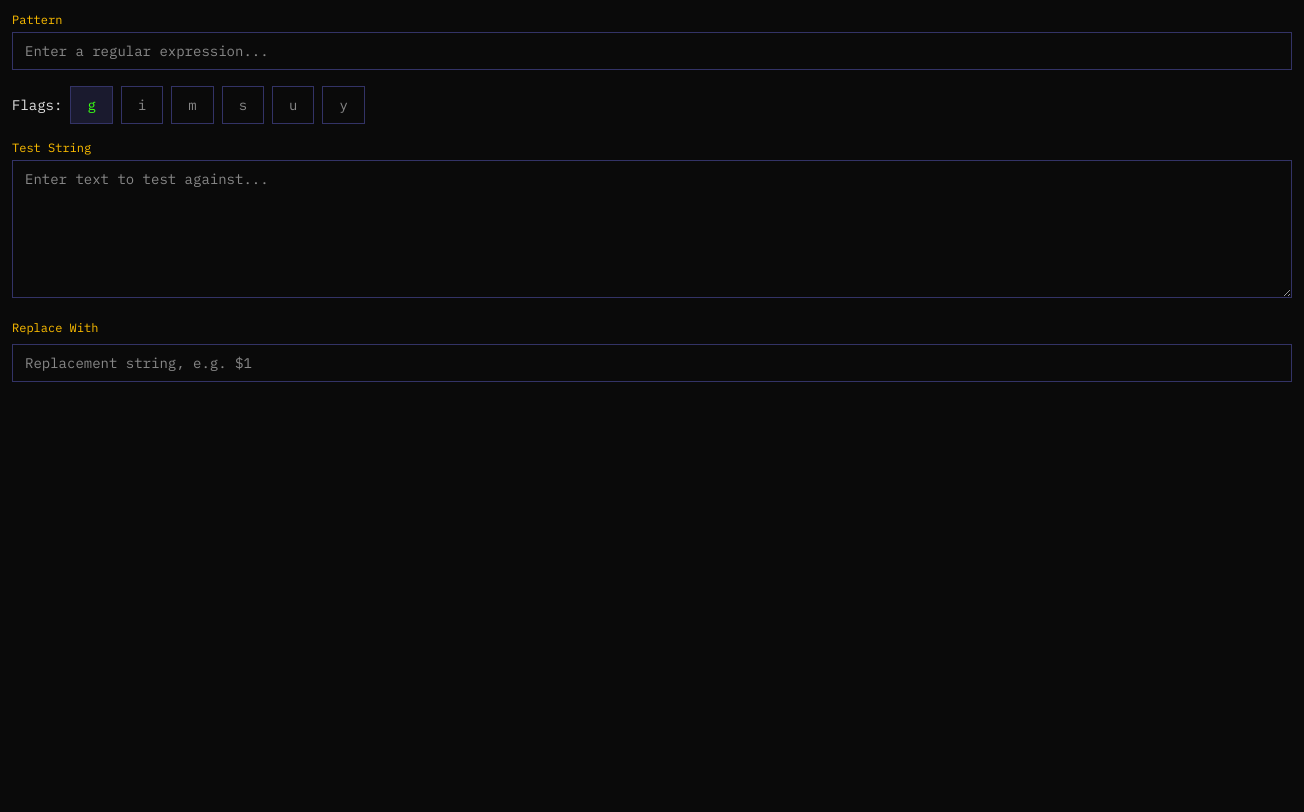
Scenario: RegexTester › copies the replace result to the clipboard
This screenshot has width=1304, height=812.
Type "o" into the field labelled "Pattern". click: (652, 51)
box: left=12, top=32, right=1292, bottom=70
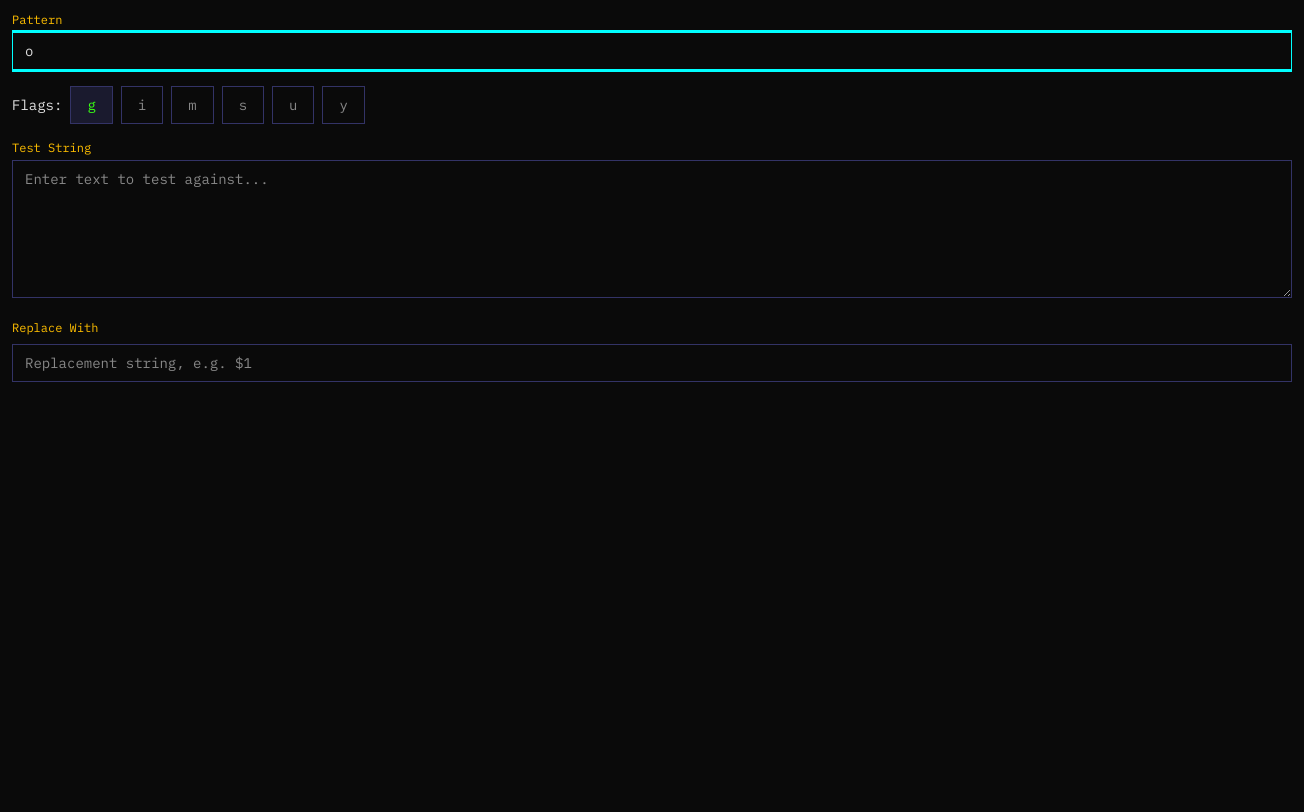
Type "foo" into the text box labelled "Test String". click: (652, 229)
box: left=12, top=160, right=1292, bottom=298
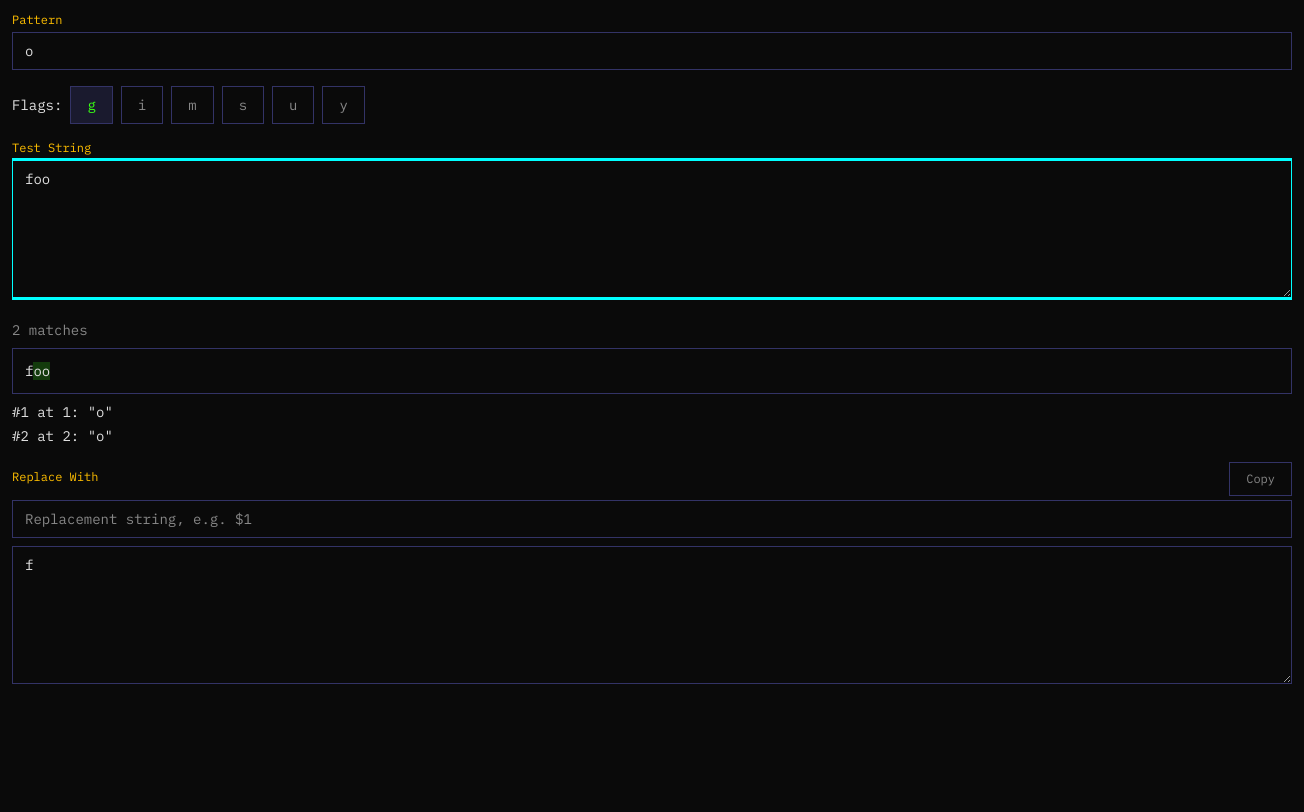
Type "0" into the field labelled "Replace With". click: (652, 519)
box: left=12, top=500, right=1292, bottom=538
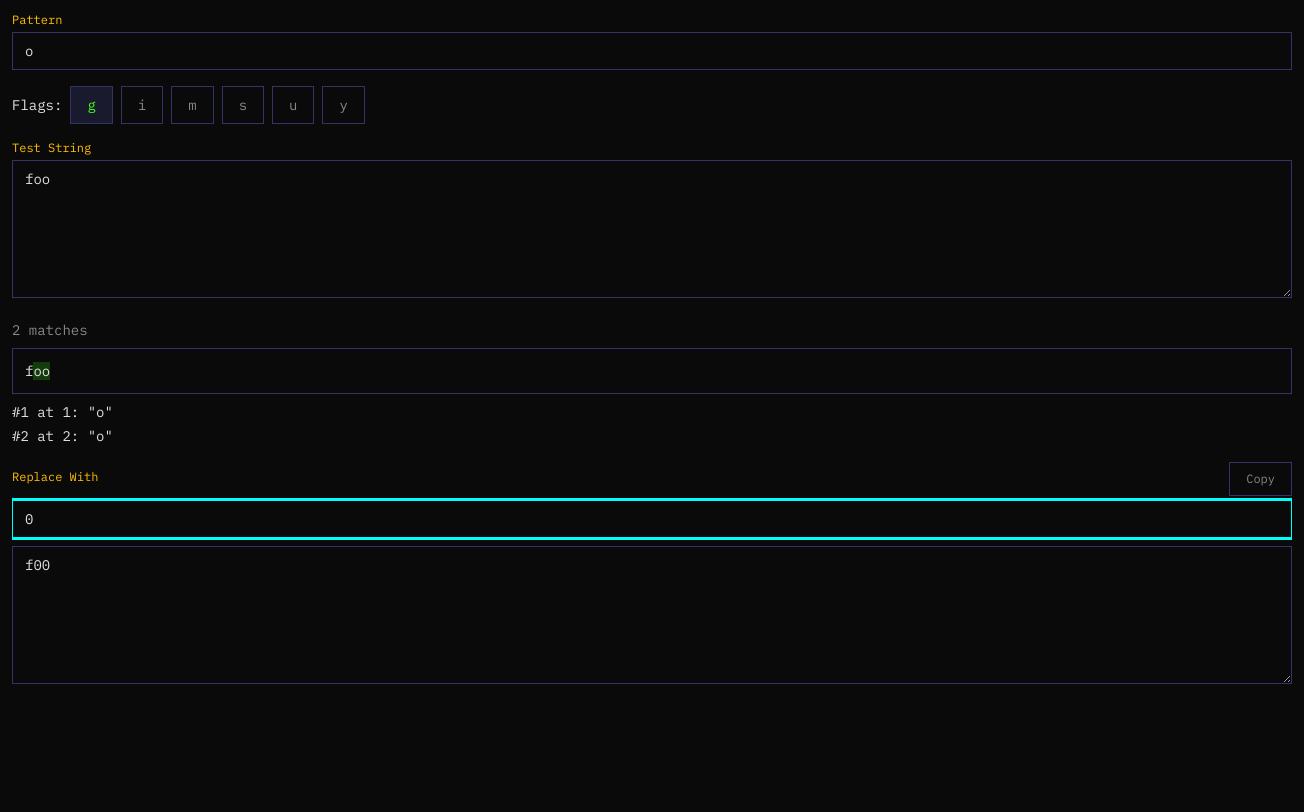
Click the button "Copy". click: click(1261, 479)
box: left=1229, top=462, right=1292, bottom=496
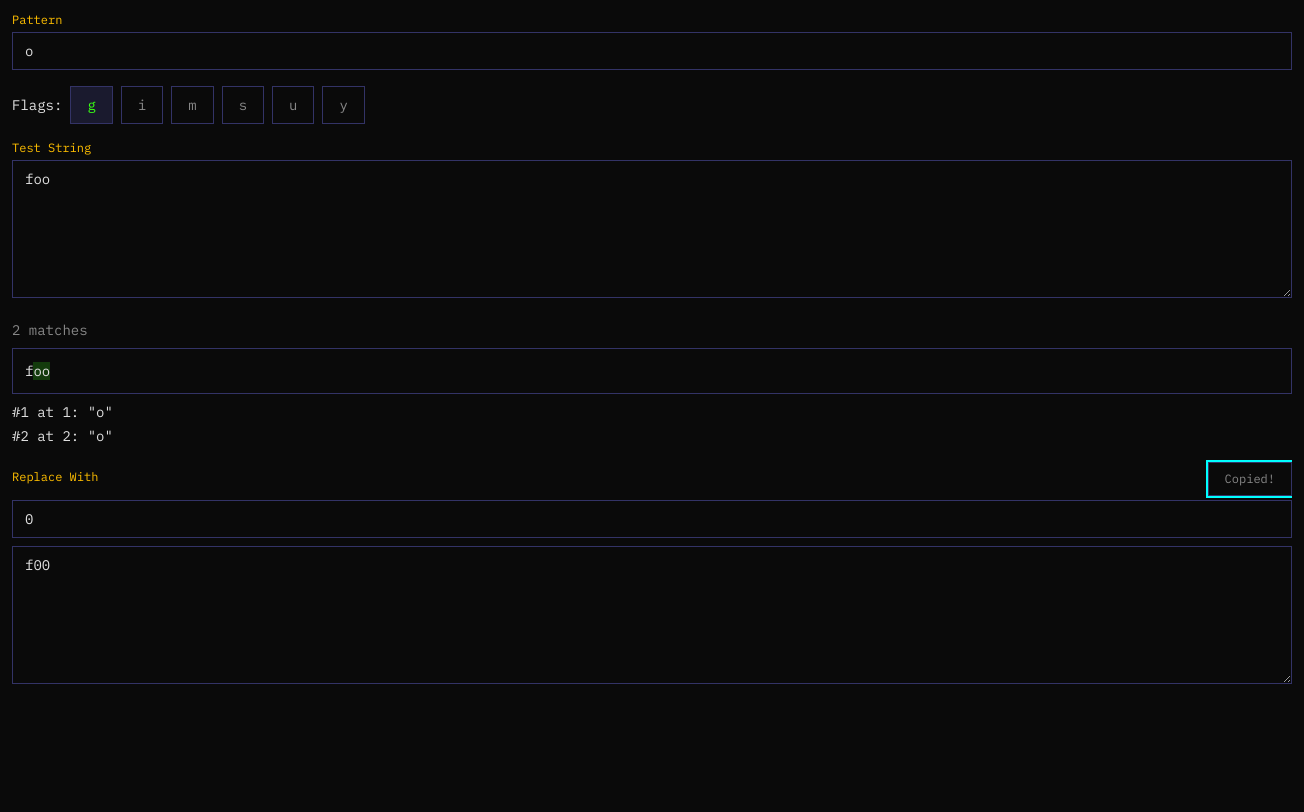
Result: the button "Copied!" is shown at left=1208, top=462, right=1292, bottom=496
